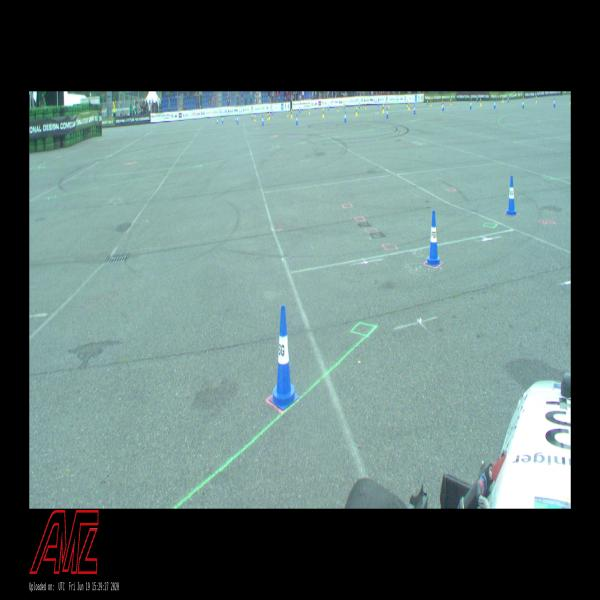blue_cone: (268, 305, 298, 412), (425, 210, 442, 268), (505, 175, 517, 216), (343, 110, 347, 123), (261, 114, 264, 127), (469, 99, 472, 110), (413, 104, 416, 114), (493, 100, 496, 110), (296, 113, 298, 126), (386, 107, 388, 119), (553, 97, 555, 108), (522, 99, 524, 109), (442, 102, 444, 112), (222, 115, 224, 124), (236, 116, 238, 125)
yellow_cone: (355, 106, 358, 117), (382, 103, 385, 114), (322, 108, 325, 118), (291, 108, 293, 119), (408, 102, 410, 111)
